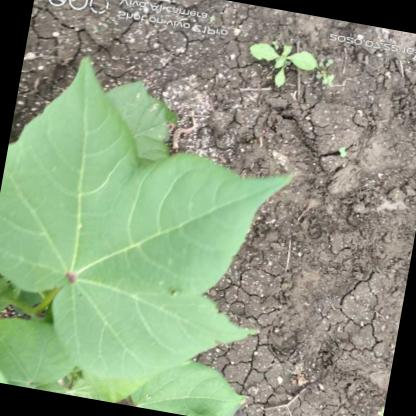cotton: (0, 53, 318, 408)
